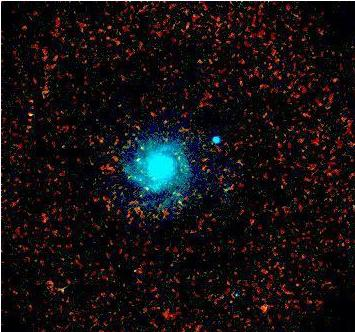star: (249, 294, 279, 324)
